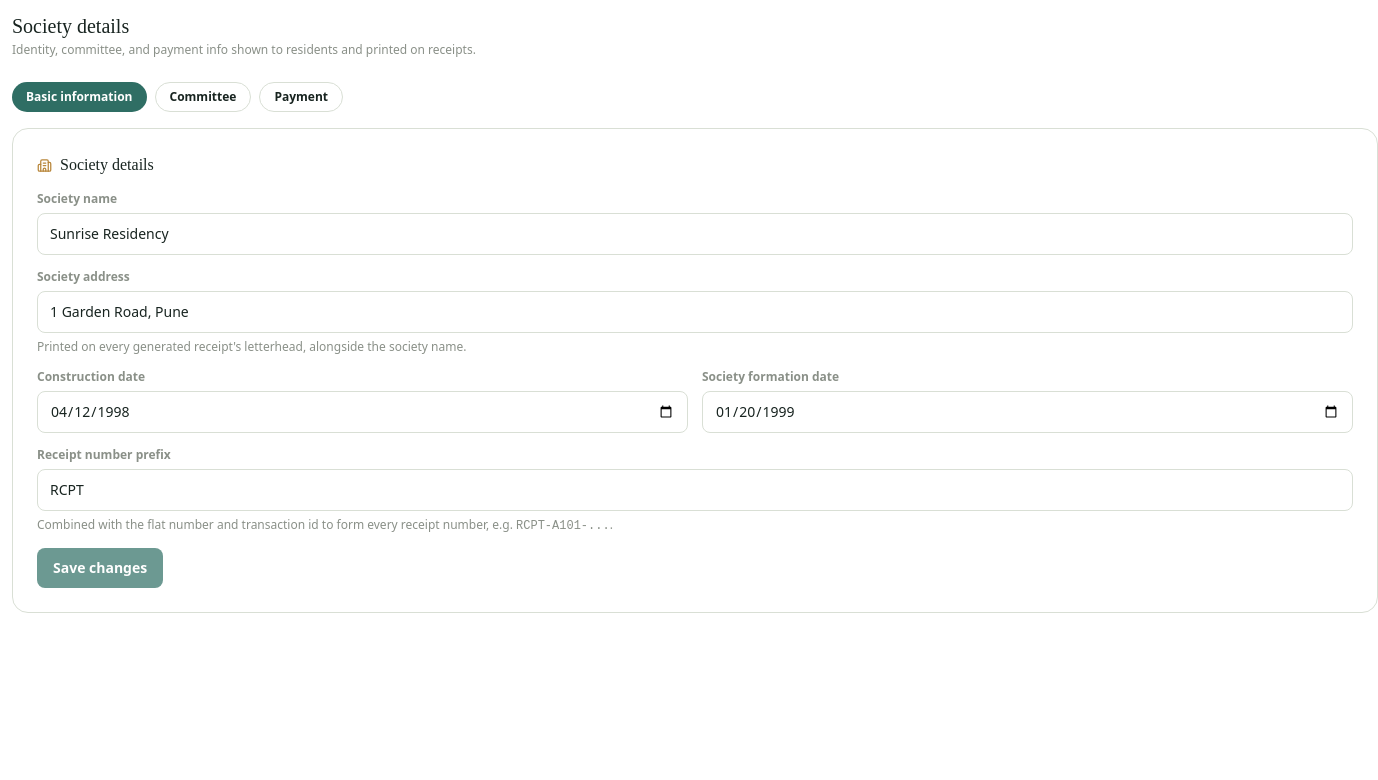
Test: SocietyDetailsPage › Basic information tab › submits name, address, and both dates — not payment or committee fields
Replace the text in the field labelled "Society name" with "Renamed Society" at point(695, 234), box [37, 213, 1353, 255]
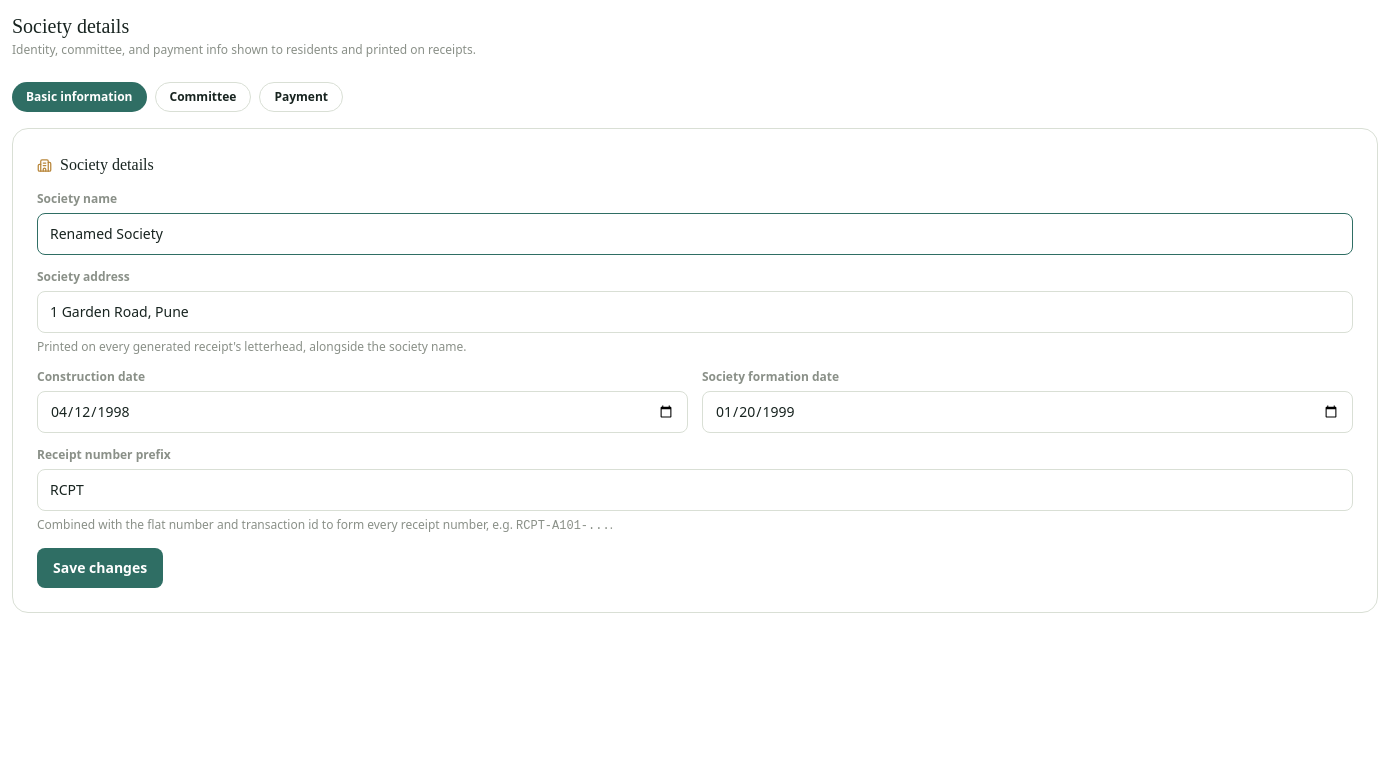
Click the button "Save changes" at point(100, 568), box [37, 548, 163, 588]
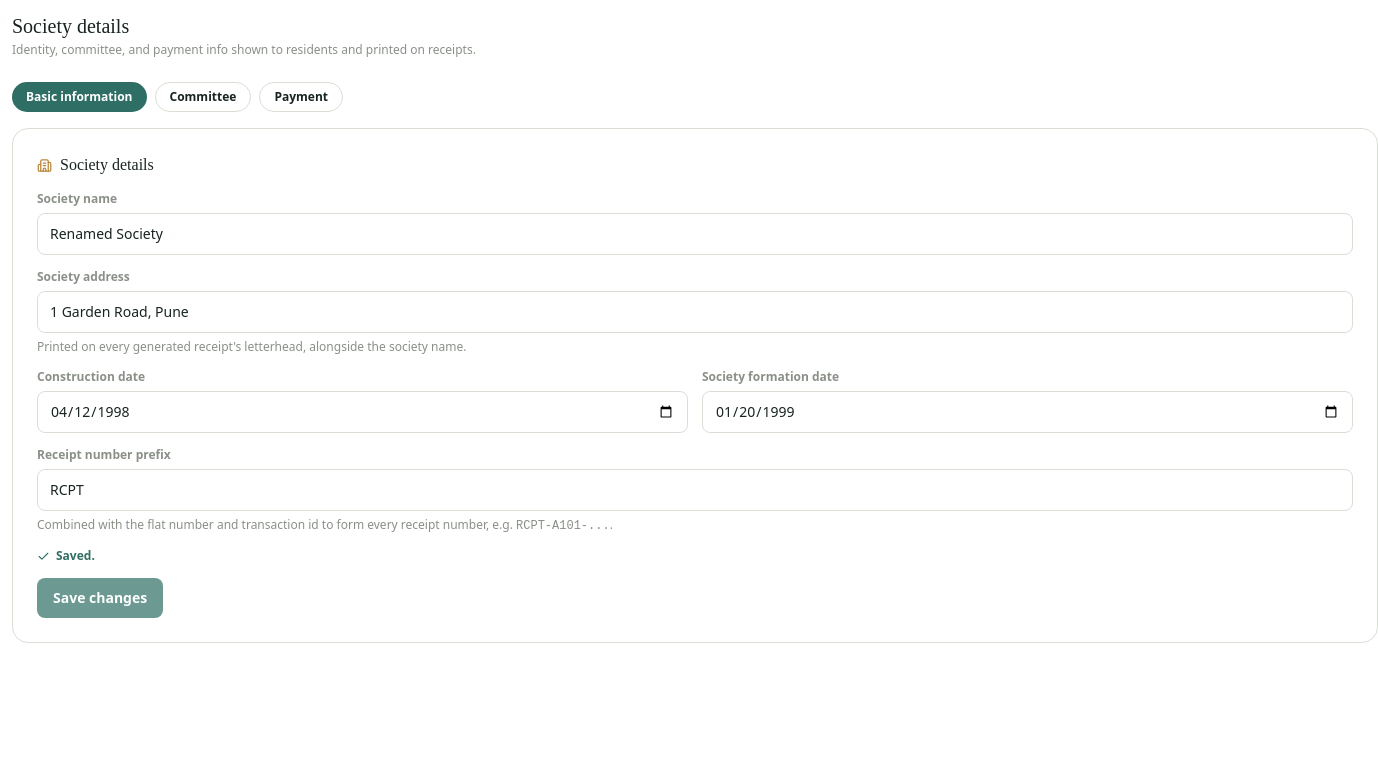
Expected: the text "Saved." is shown, [37, 547, 95, 564]
